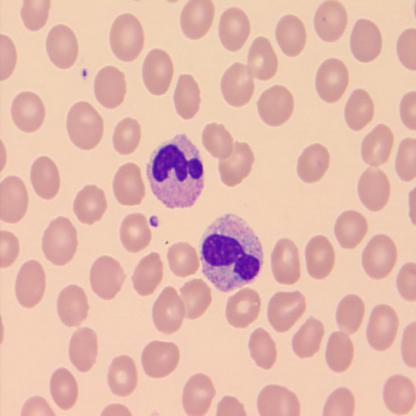Segmented neutrophil: (196, 210, 264, 294), (145, 130, 207, 212)
